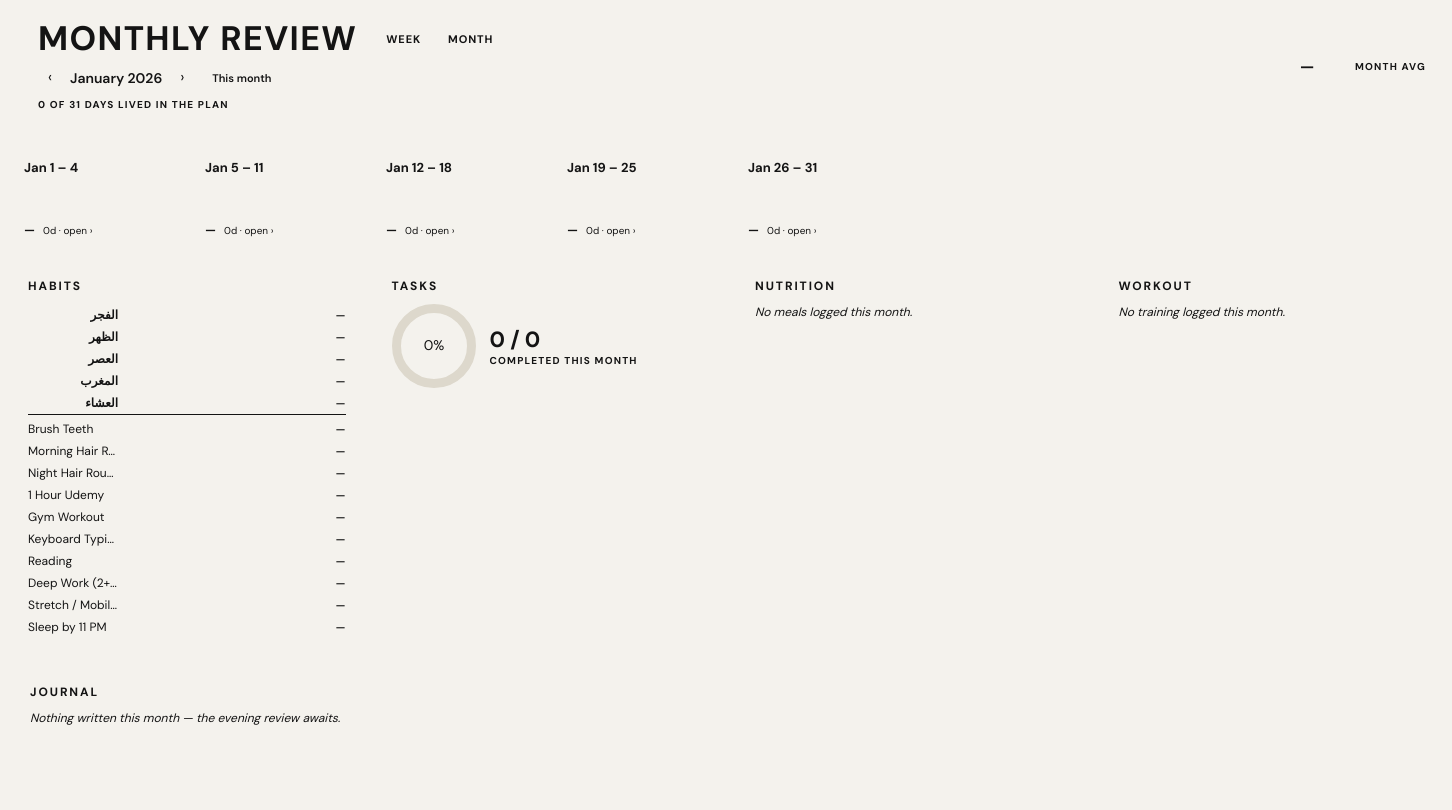
Test: Monthly Review › month navigation steps ‹ › across a year boundary
Check: the button "January 2026" is shown, box [70,69,162,87]
What coordinates should you click on to do the following:
click the button named "Previous month"
I would click on:
 (50, 78)
Its box is [38,66,62,90].
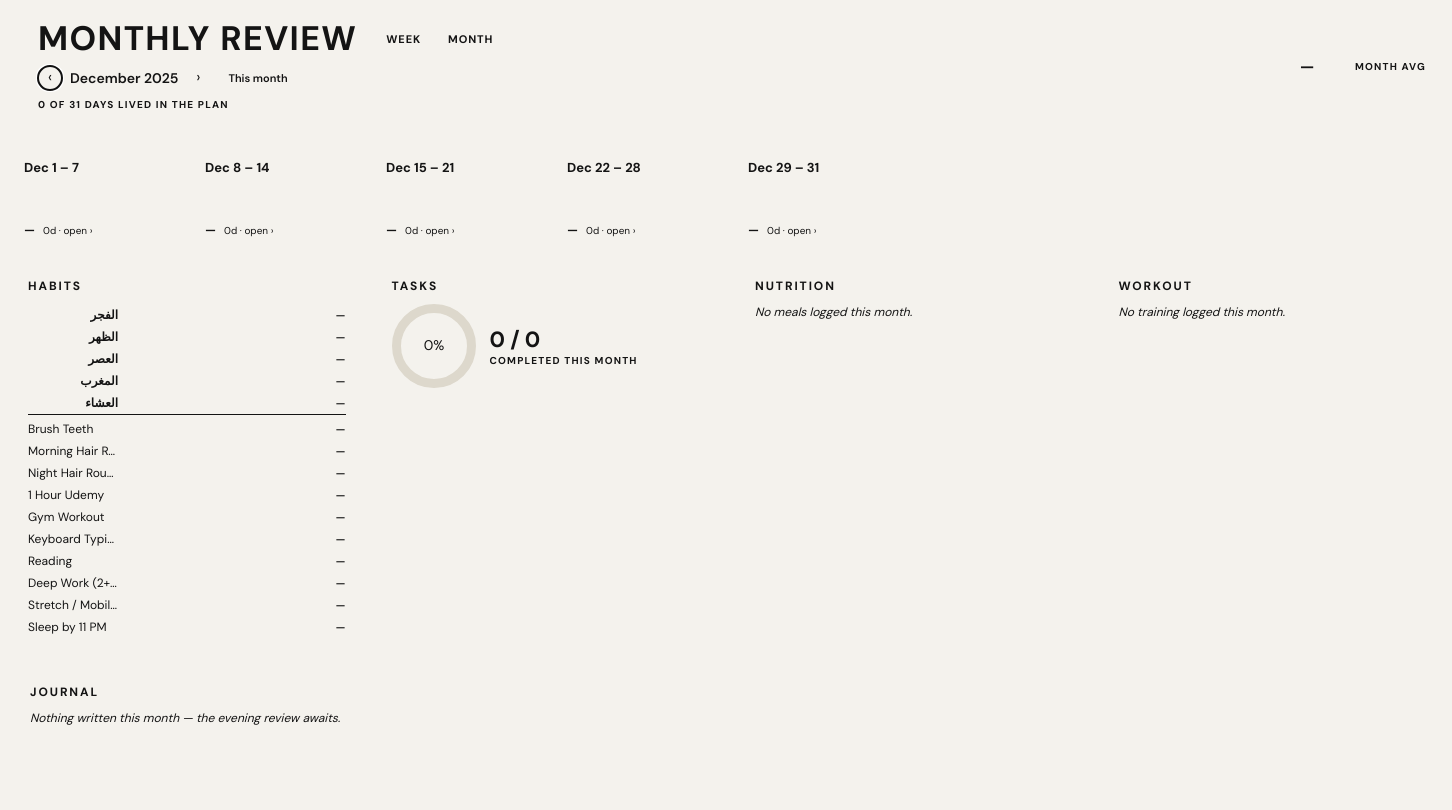
Check: the button "December 2025" is shown, box [70,69,178,87]
What coordinates should you click on to do the following:
click the button named "Next month"
I would click on:
 (198, 78)
Its box is [186,66,210,90].
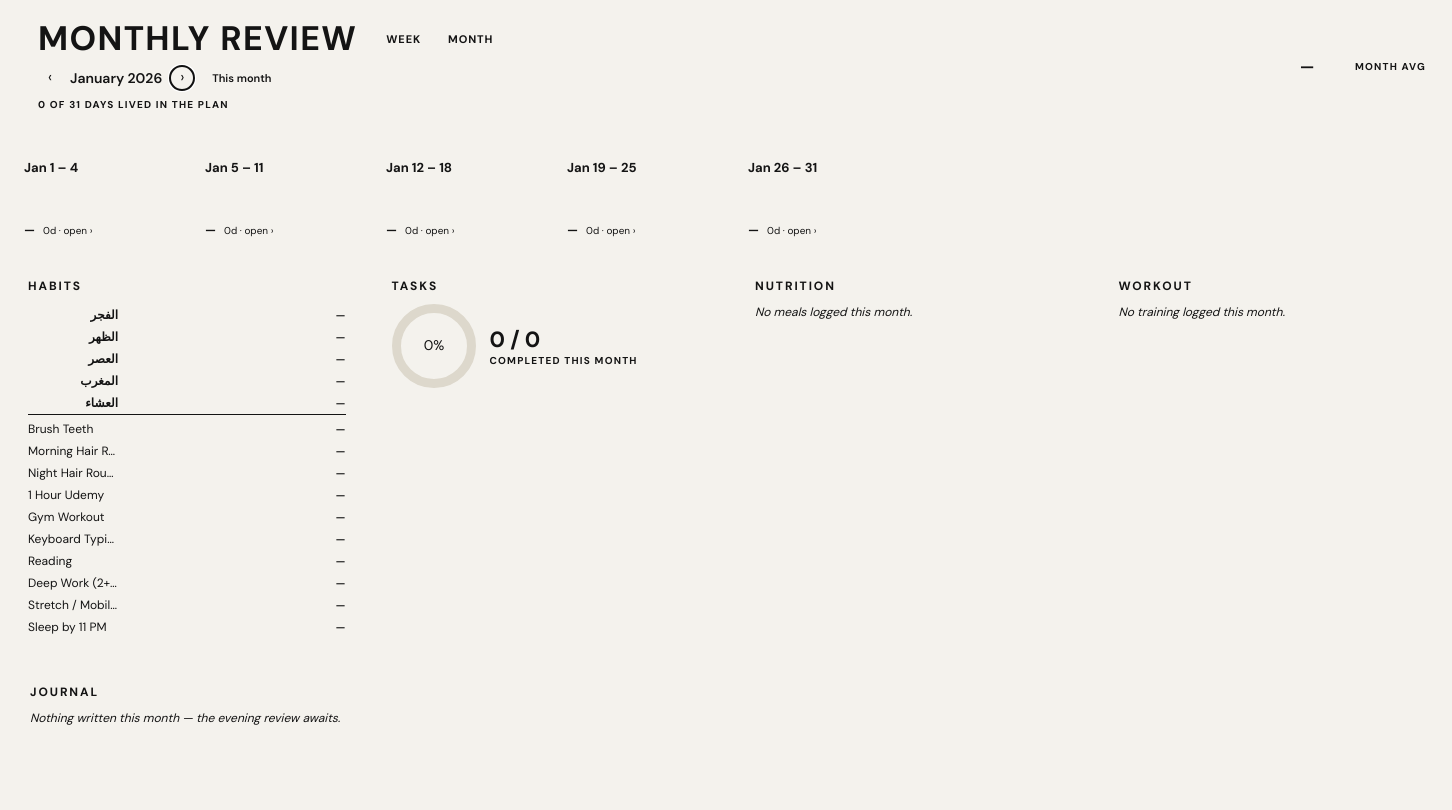
Check: the button "January 2026" is shown, box [70,69,162,87]
